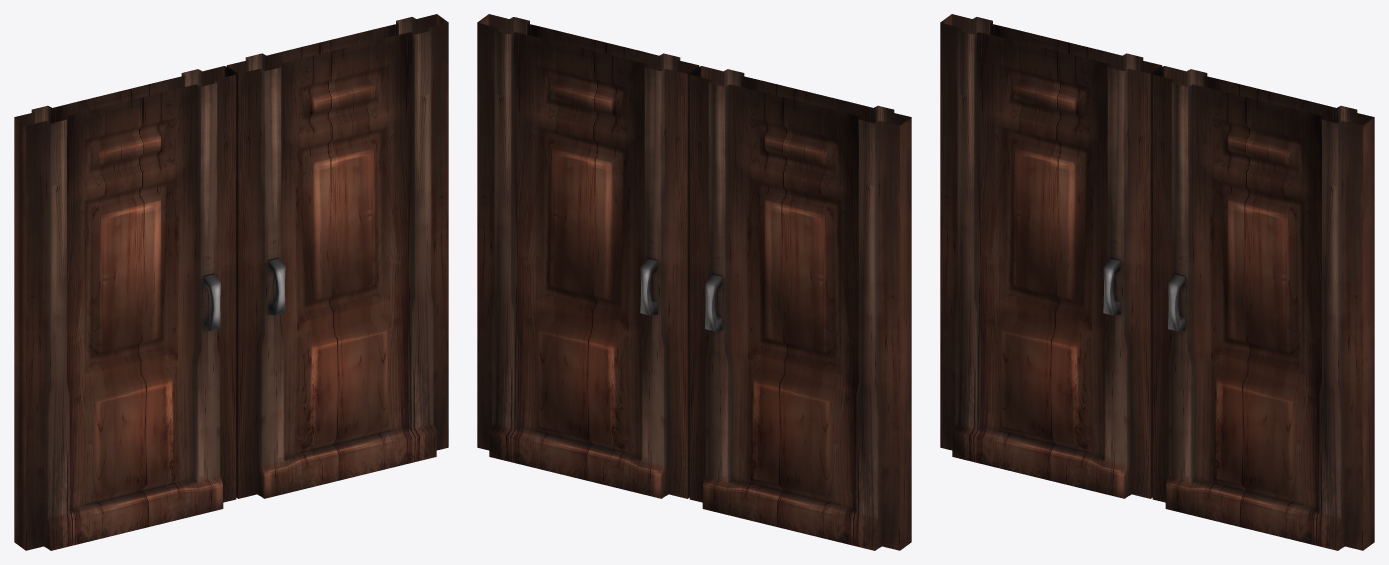
File: entrance_door.fbx
3 views of the same model, side by side, from view 1: azimuth 30°, elevation 25°; view 2: azimuth 150°, elevation 25°; view 3: azimuth 330°, elevation 25° (orthographic).
Visible parts, largest first — view 1: big_door; view 2: big_door; view 3: big_door.
Part boxes in pixels (left/top/right/bottom): big_door: left=14, top=14, right=448, bottom=550; big_door: left=477, top=14, right=911, bottom=550; big_door: left=940, top=14, right=1374, bottom=550.
Bounding box in the file's own units: 5.21 × 5 × 0.7748.
Materials: 1 (1 with a texture image).
